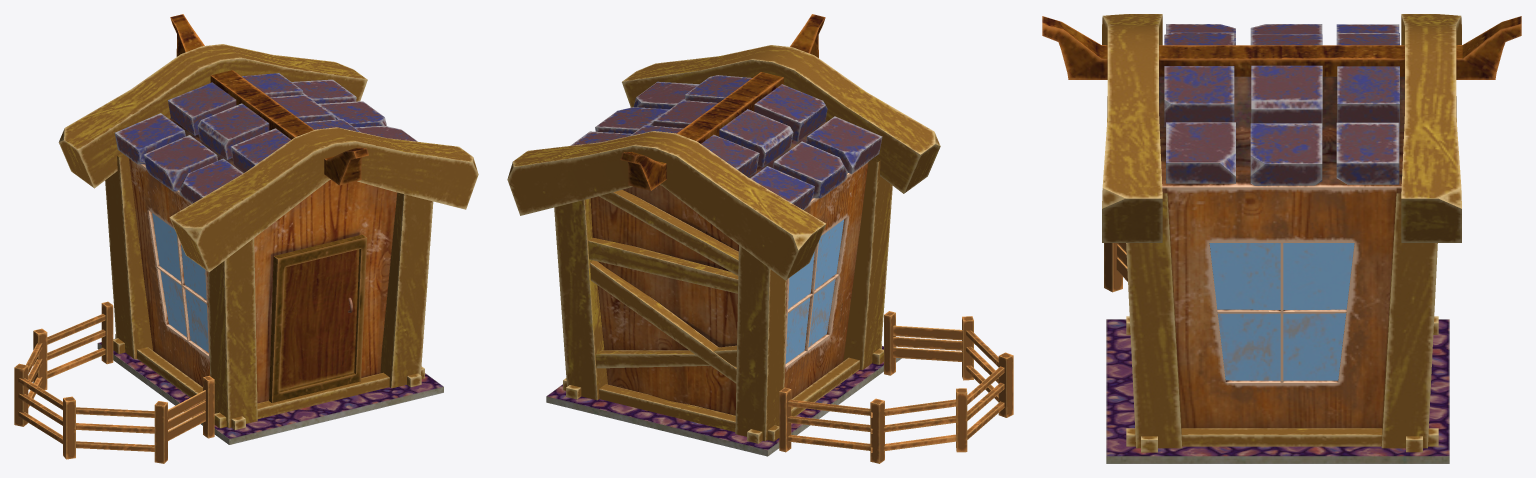
File: medieval_viking_house.glb
The picture shows the model from 3 angles, left to right: view 1: azimuth 30°, elevation 25°; view 2: azimuth 150°, elevation 25°; view 3: azimuth 270°, elevation 25°; orthographic projection. The views are drawn at different scales.
Parts seen in each view (by area): view 1: Cube_low, Cube.002_low.001, Cube.005_low.001, Cube.002_low, Cube.008_low, Cube.001_low.003, Cube.001_low, Cube.001_low.001, Cube.007_low, Cube.005_low, Cube.009_low, Cube.021_low (+12 smaller); view 2: Cube_low, Cube.002_low, Cube.005_low.001, Cube.002_low.001, Cube.001_low.001, Cube.001_low.002, Cube.001_low.003, Cube.005_low, Cube.007_low, Cube.021_low, Cube.013_low, Cube.012_low (+14 smaller); view 3: Cube_low, Cube.005_low, Cube.021_low, Cube.002_low, Cube.002_low.001, Cube.007_low, Cube.001_low, Cube.001_low.002, Cube.003_low.002, Cube.003_low.001, Cube.005_low.001, Cube.010_low (+2 smaller).
Boxes of the visible parts, left/top/right/bottom form: Cube_low: left=129, top=118, right=397, bottom=403; Cube.002_low.001: left=169, top=127, right=478, bottom=272; Cube.005_low.001: left=114, top=82, right=291, bottom=203; Cube.002_low: left=58, top=44, right=367, bottom=188; Cube.008_low: left=279, top=249, right=359, bottom=390; Cube.001_low.003: left=208, top=238, right=257, bottom=427; Cube.001_low: left=380, top=192, right=433, bottom=388; Cube.001_low.001: left=105, top=156, right=152, bottom=359; Cube.007_low: left=97, top=339, right=443, bottom=444; Cube.005_low: left=242, top=73, right=417, bottom=141; Cube.009_low: left=269, top=234, right=367, bottom=402; Cube.021_low: left=152, top=213, right=208, bottom=352; Cube_low: left=590, top=122, right=868, bottom=415; Cube.002_low: left=507, top=131, right=825, bottom=280; Cube.005_low.001: left=701, top=84, right=882, bottom=209; Cube.002_low.001: left=622, top=45, right=940, bottom=193; Cube.001_low.001: left=735, top=245, right=786, bottom=441; Cube.001_low.002: left=554, top=198, right=607, bottom=400; Cube.001_low.003: left=843, top=160, right=892, bottom=370; Cube.005_low: left=570, top=75, right=752, bottom=145; Cube.007_low: left=546, top=346, right=901, bottom=456; Cube.021_low: left=785, top=219, right=843, bottom=363; Cube.013_low: left=590, top=260, right=736, bottom=383; Cube.012_low: left=588, top=237, right=738, bottom=293; Cube_low: left=1159, top=76, right=1404, bottom=428; Cube.005_low: left=1164, top=65, right=1399, bottom=185; Cube.021_low: left=1209, top=243, right=1354, bottom=380; Cube.002_low: left=1401, top=14, right=1461, bottom=242; Cube.002_low.001: left=1102, top=14, right=1162, bottom=242; Cube.007_low: left=1106, top=319, right=1449, bottom=463; Cube.001_low: left=1126, top=191, right=1182, bottom=448; Cube.001_low.002: left=1381, top=191, right=1437, bottom=448; Cube.003_low.002: left=1282, top=16, right=1521, bottom=79; Cube.003_low.001: left=1042, top=16, right=1281, bottom=79; Cube.005_low.001: left=1164, top=24, right=1399, bottom=45; Cube.010_low: left=1126, top=316, right=1438, bottom=446.
Bounding box in the file's own units: 6.67 × 4.73 × 5.44.
1 material, 1 textured.
